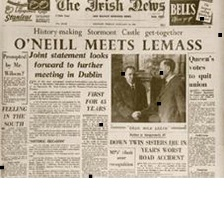news_paper: (0, 0, 224, 178)
